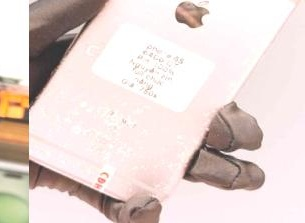scratch: (177, 7, 276, 204), (30, 66, 174, 178), (134, 0, 236, 45)
